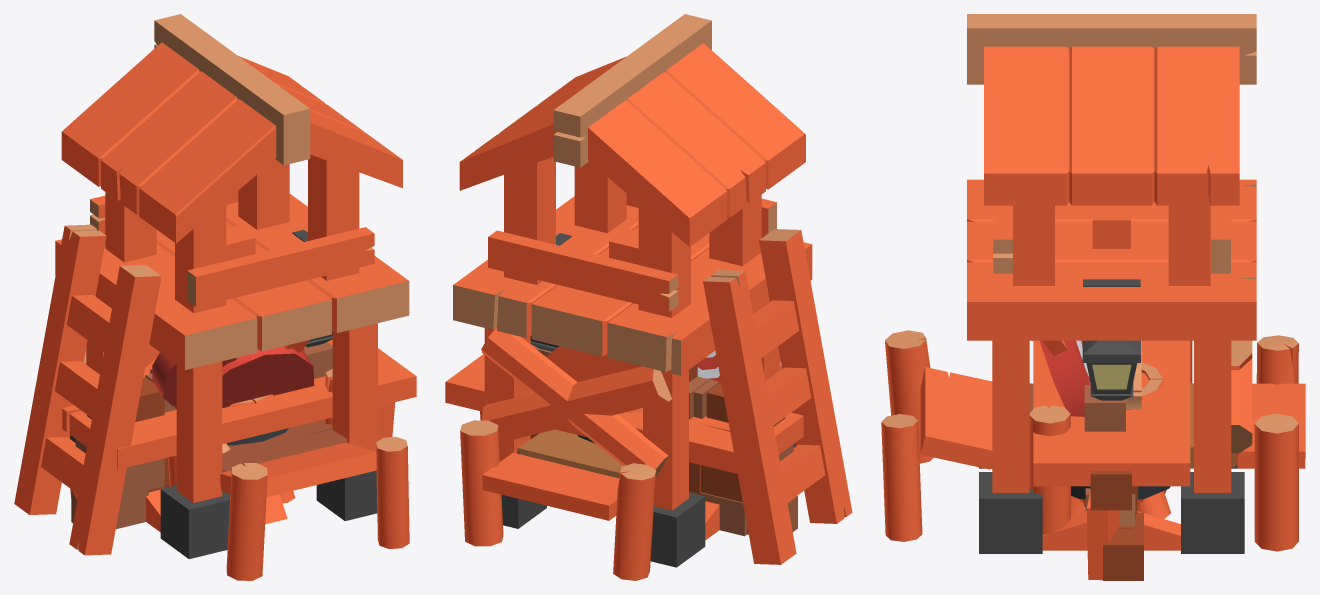
File: Wood_objects.fbx
3 views of the same model, side by side, from view 1: azimuth 30°, elevation 25°; view 2: azimuth 150°, elevation 25°; view 3: azimuth 270°, elevation 25° (orthographic). The views are drawn at different scales.
Visible parts, largest first — view 1: Observation, Bridge, Table, Targets, Brick_wall_03, Brick_wall_02, Lamp_post, Brick_wall_01, Fence_01, Barrel; view 2: Observation, Bridge, Table, Brick_wall_03, Brick_wall_02, Pointer_02, Lamp_post; view 3: Observation, Bridge, Table, Lamp_post, Brick_wall_02, Targets, Fence_01, Brick_wall_01, Barrel, Chair.
Part boxes in pixels (<box>): Observation: <box>14,14,409,559</box>; Bridge: <box>69,349,409,580</box>; Table: <box>62,339,416,532</box>; Targets: <box>152,340,314,524</box>; Brick_wall_03: <box>87,347,304,496</box>; Brick_wall_02: <box>71,369,323,529</box>; Lamp_post: <box>226,225,332,347</box>; Brick_wall_01: <box>304,342,332,378</box>; Fence_01: <box>70,402,395,500</box>; Barrel: <box>226,394,288,445</box>; Observation: <box>453,14,852,567</box>; Bridge: <box>460,365,781,580</box>; Table: <box>445,344,803,540</box>; Brick_wall_03: <box>689,364,785,536</box>; Brick_wall_02: <box>689,377,797,534</box>; Pointer_02: <box>546,346,634,381</box>; Lamp_post: <box>530,228,638,351</box>; Observation: <box>967,14,1256,553</box>; Bridge: <box>881,330,1305,551</box>; Table: <box>1033,340,1190,550</box>; Lamp_post: <box>1082,205,1140,400</box>; Brick_wall_02: <box>1090,409,1143,580</box>; Targets: <box>1032,340,1089,416</box>; Fence_01: <box>1086,491,1118,580</box>; Brick_wall_01: <box>1084,380,1137,510</box>; Barrel: <box>1071,362,1170,507</box>; Chair: <box>1071,491,1170,518</box>.
Bounding box in the file's own units: 433 × 527 × 421.
